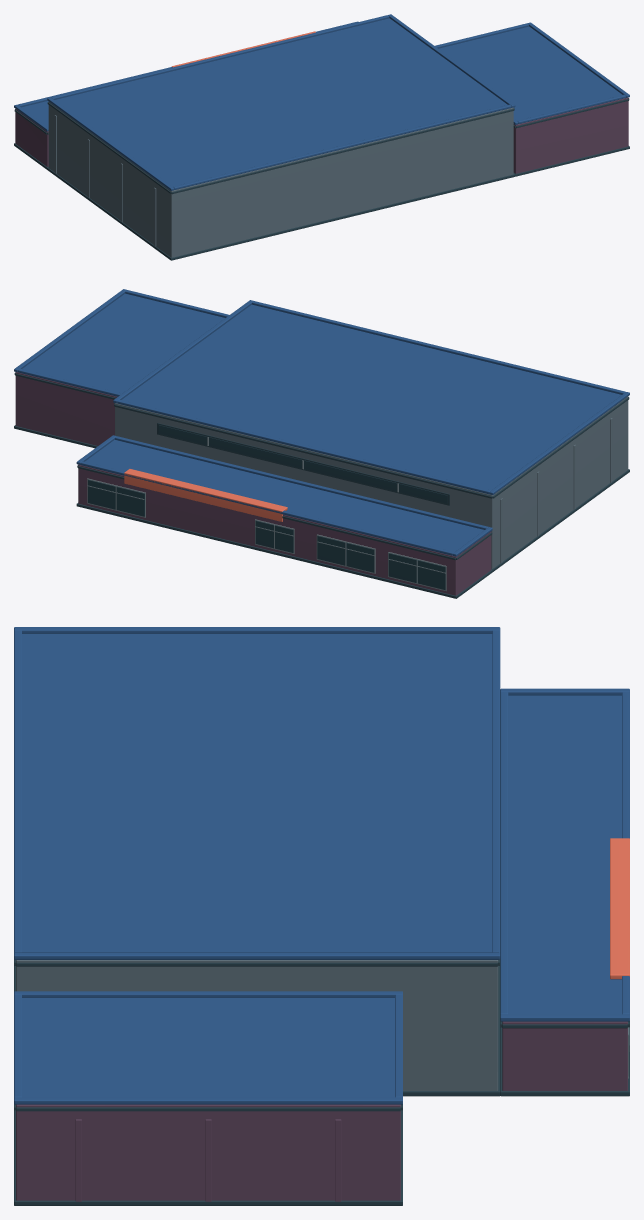
Rendered from d07_retail_buildings_01.glb.
The picture shows the model from 3 angles, top to bottom: view 1: azimuth 30°, elevation 25°; view 2: azimuth 150°, elevation 25°; view 3: azimuth 270°, elevation 25°; orthographic projection. The views are drawn at different scales.
Visible parts, largest first — view 1: D07RetailBuildings01_Mesh; view 2: D07RetailBuildings01_Mesh; view 3: D07RetailBuildings01_Mesh.
Part boxes in pixels (<box>): D07RetailBuildings01_Mesh: <box>14,14,629,260</box>; D07RetailBuildings01_Mesh: <box>14,289,629,598</box>; D07RetailBuildings01_Mesh: <box>14,627,629,1205</box>.
Size of the model in its own units: 64 by 9.6 by 38.
